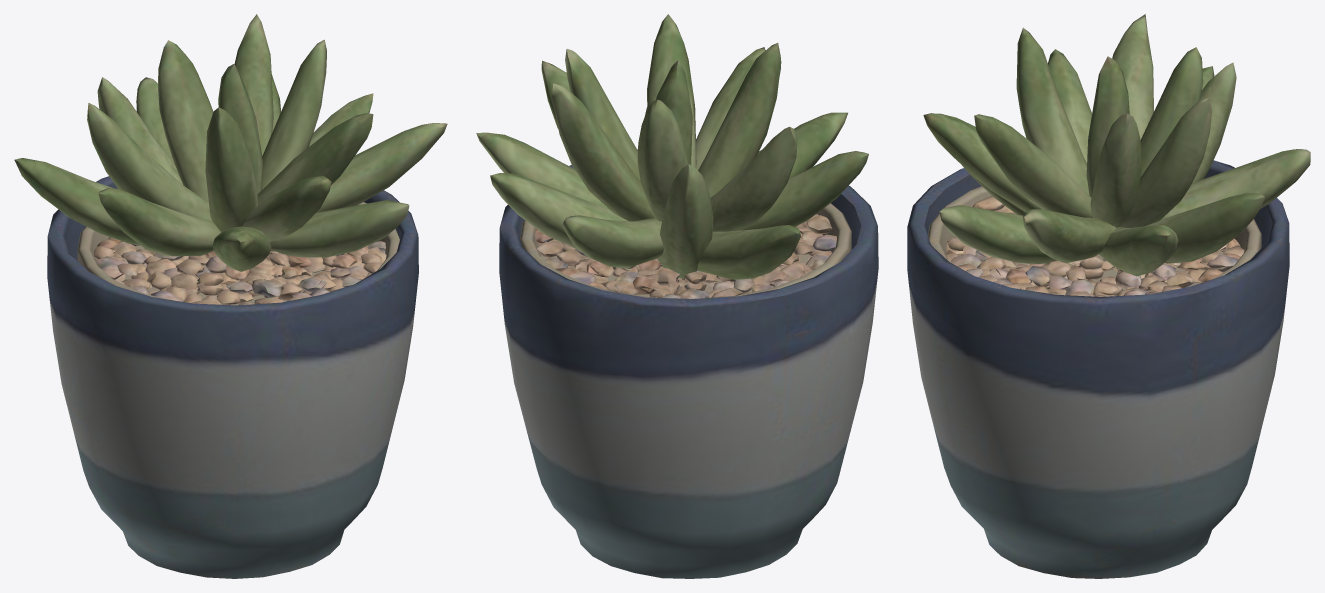
The model's file is SmallPlant01.glb.
The picture shows the model from 3 angles, left to right: view 1: azimuth 30°, elevation 25°; view 2: azimuth 150°, elevation 25°; view 3: azimuth 270°, elevation 25°; orthographic projection. The views are drawn at different scales.
Visible parts, largest first — view 1: G-cactus_gasteria_1_0, G-cactus_gasteria_1_1; view 2: G-cactus_gasteria_1_0, G-cactus_gasteria_1_1; view 3: G-cactus_gasteria_1_0, G-cactus_gasteria_1_1.
Boxes of the visible parts, <box> form: G-cactus_gasteria_1_0: <box>47,176,418,578</box>; G-cactus_gasteria_1_1: <box>14,14,447,305</box>; G-cactus_gasteria_1_0: <box>499,149,878,578</box>; G-cactus_gasteria_1_1: <box>476,14,868,298</box>; G-cactus_gasteria_1_0: <box>907,160,1289,578</box>; G-cactus_gasteria_1_1: <box>923,14,1310,296</box>.
Size of the model in its own units: 0.1294 by 0.1679 by 0.1282.
Materials: 2 (2 with a texture image).
